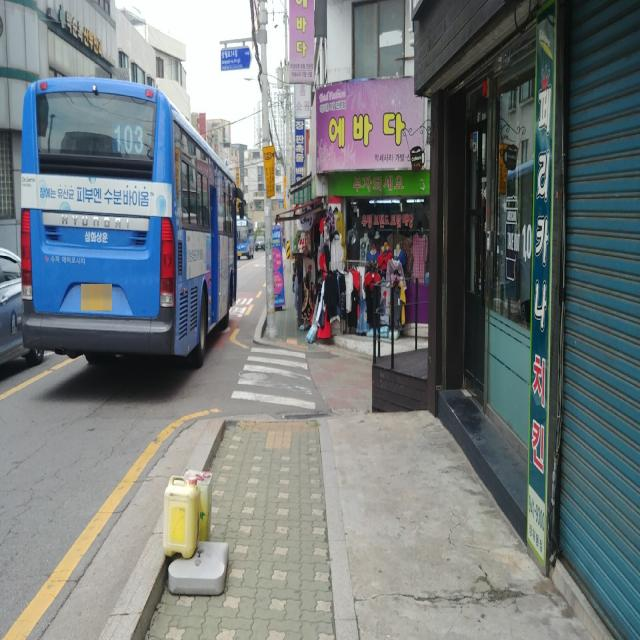횡단보도: (230, 346, 316, 411)
